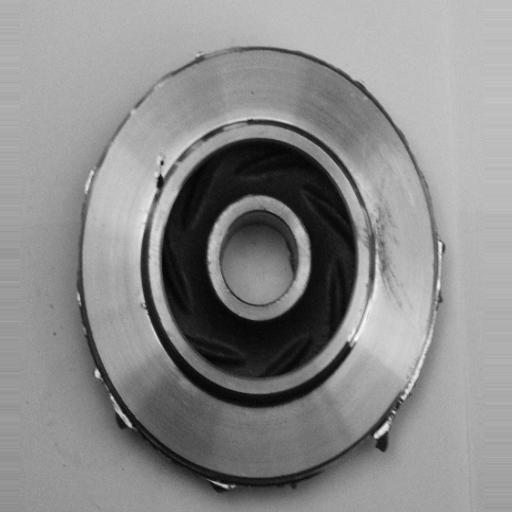casting_with_burr: (67, 44, 449, 497)
crack: (149, 146, 174, 201)
scratch: (344, 301, 381, 354)
stain: (357, 194, 417, 318)
